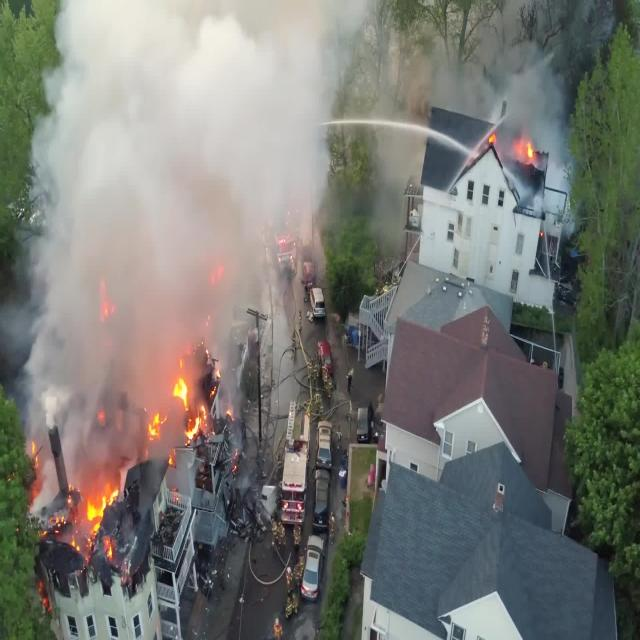Fire: (9, 268, 250, 606), (458, 105, 566, 215)
Smoke: (9, 0, 365, 589), (476, 45, 590, 228)
